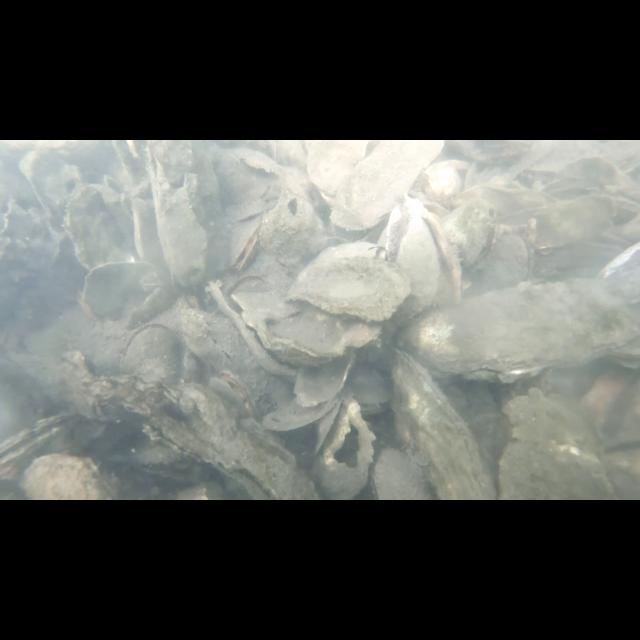Oyster-Closed: (402, 276, 640, 382), (390, 346, 498, 500), (496, 388, 614, 500), (229, 292, 381, 364), (289, 252, 409, 320), (74, 258, 166, 320), (63, 186, 131, 266), (22, 452, 114, 500), (292, 350, 358, 404), (372, 448, 432, 500), (480, 232, 532, 290), (259, 398, 341, 430)
Oyster-Open: (140, 414, 318, 500), (398, 212, 464, 312), (314, 394, 374, 501), (0, 410, 84, 482), (119, 322, 183, 394), (442, 195, 498, 273), (208, 368, 262, 422), (230, 214, 264, 272)
